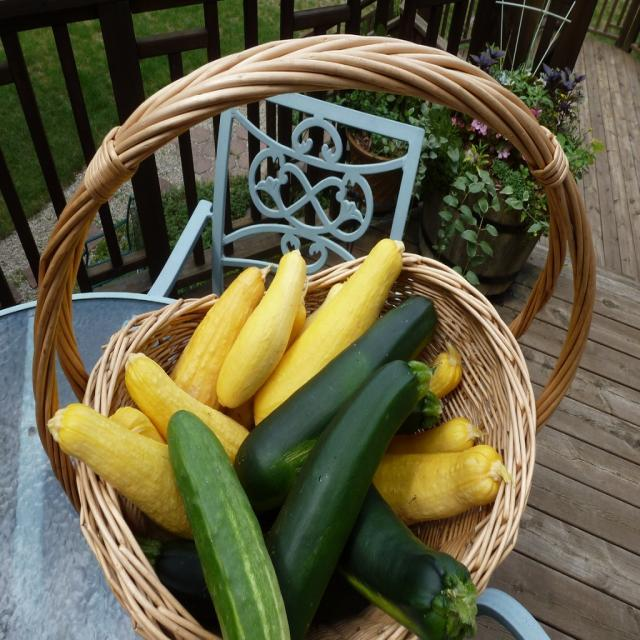Zucchini: (250, 239, 409, 427), (165, 405, 285, 640), (332, 482, 482, 640), (48, 406, 200, 542), (163, 263, 279, 413), (215, 244, 311, 415), (119, 350, 251, 470), (373, 442, 509, 523), (60, 395, 160, 453), (384, 420, 484, 459), (426, 341, 469, 393)
